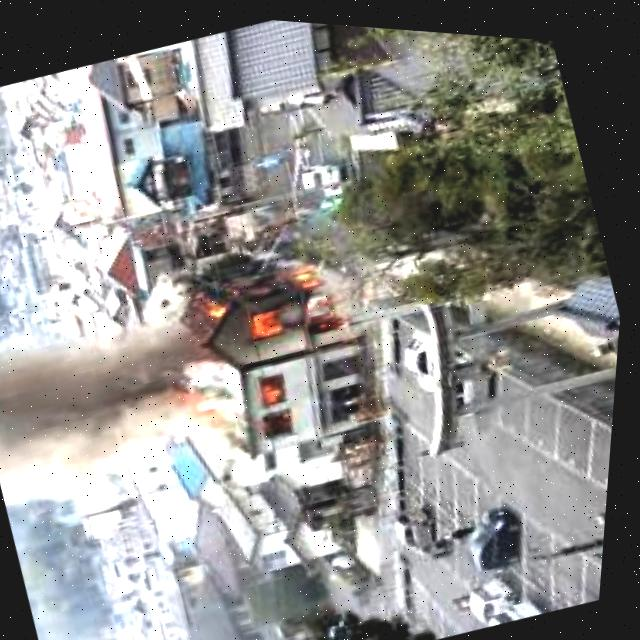Fire: (199, 237, 354, 358), (255, 362, 293, 409)
Smoke: (0, 275, 245, 536)
